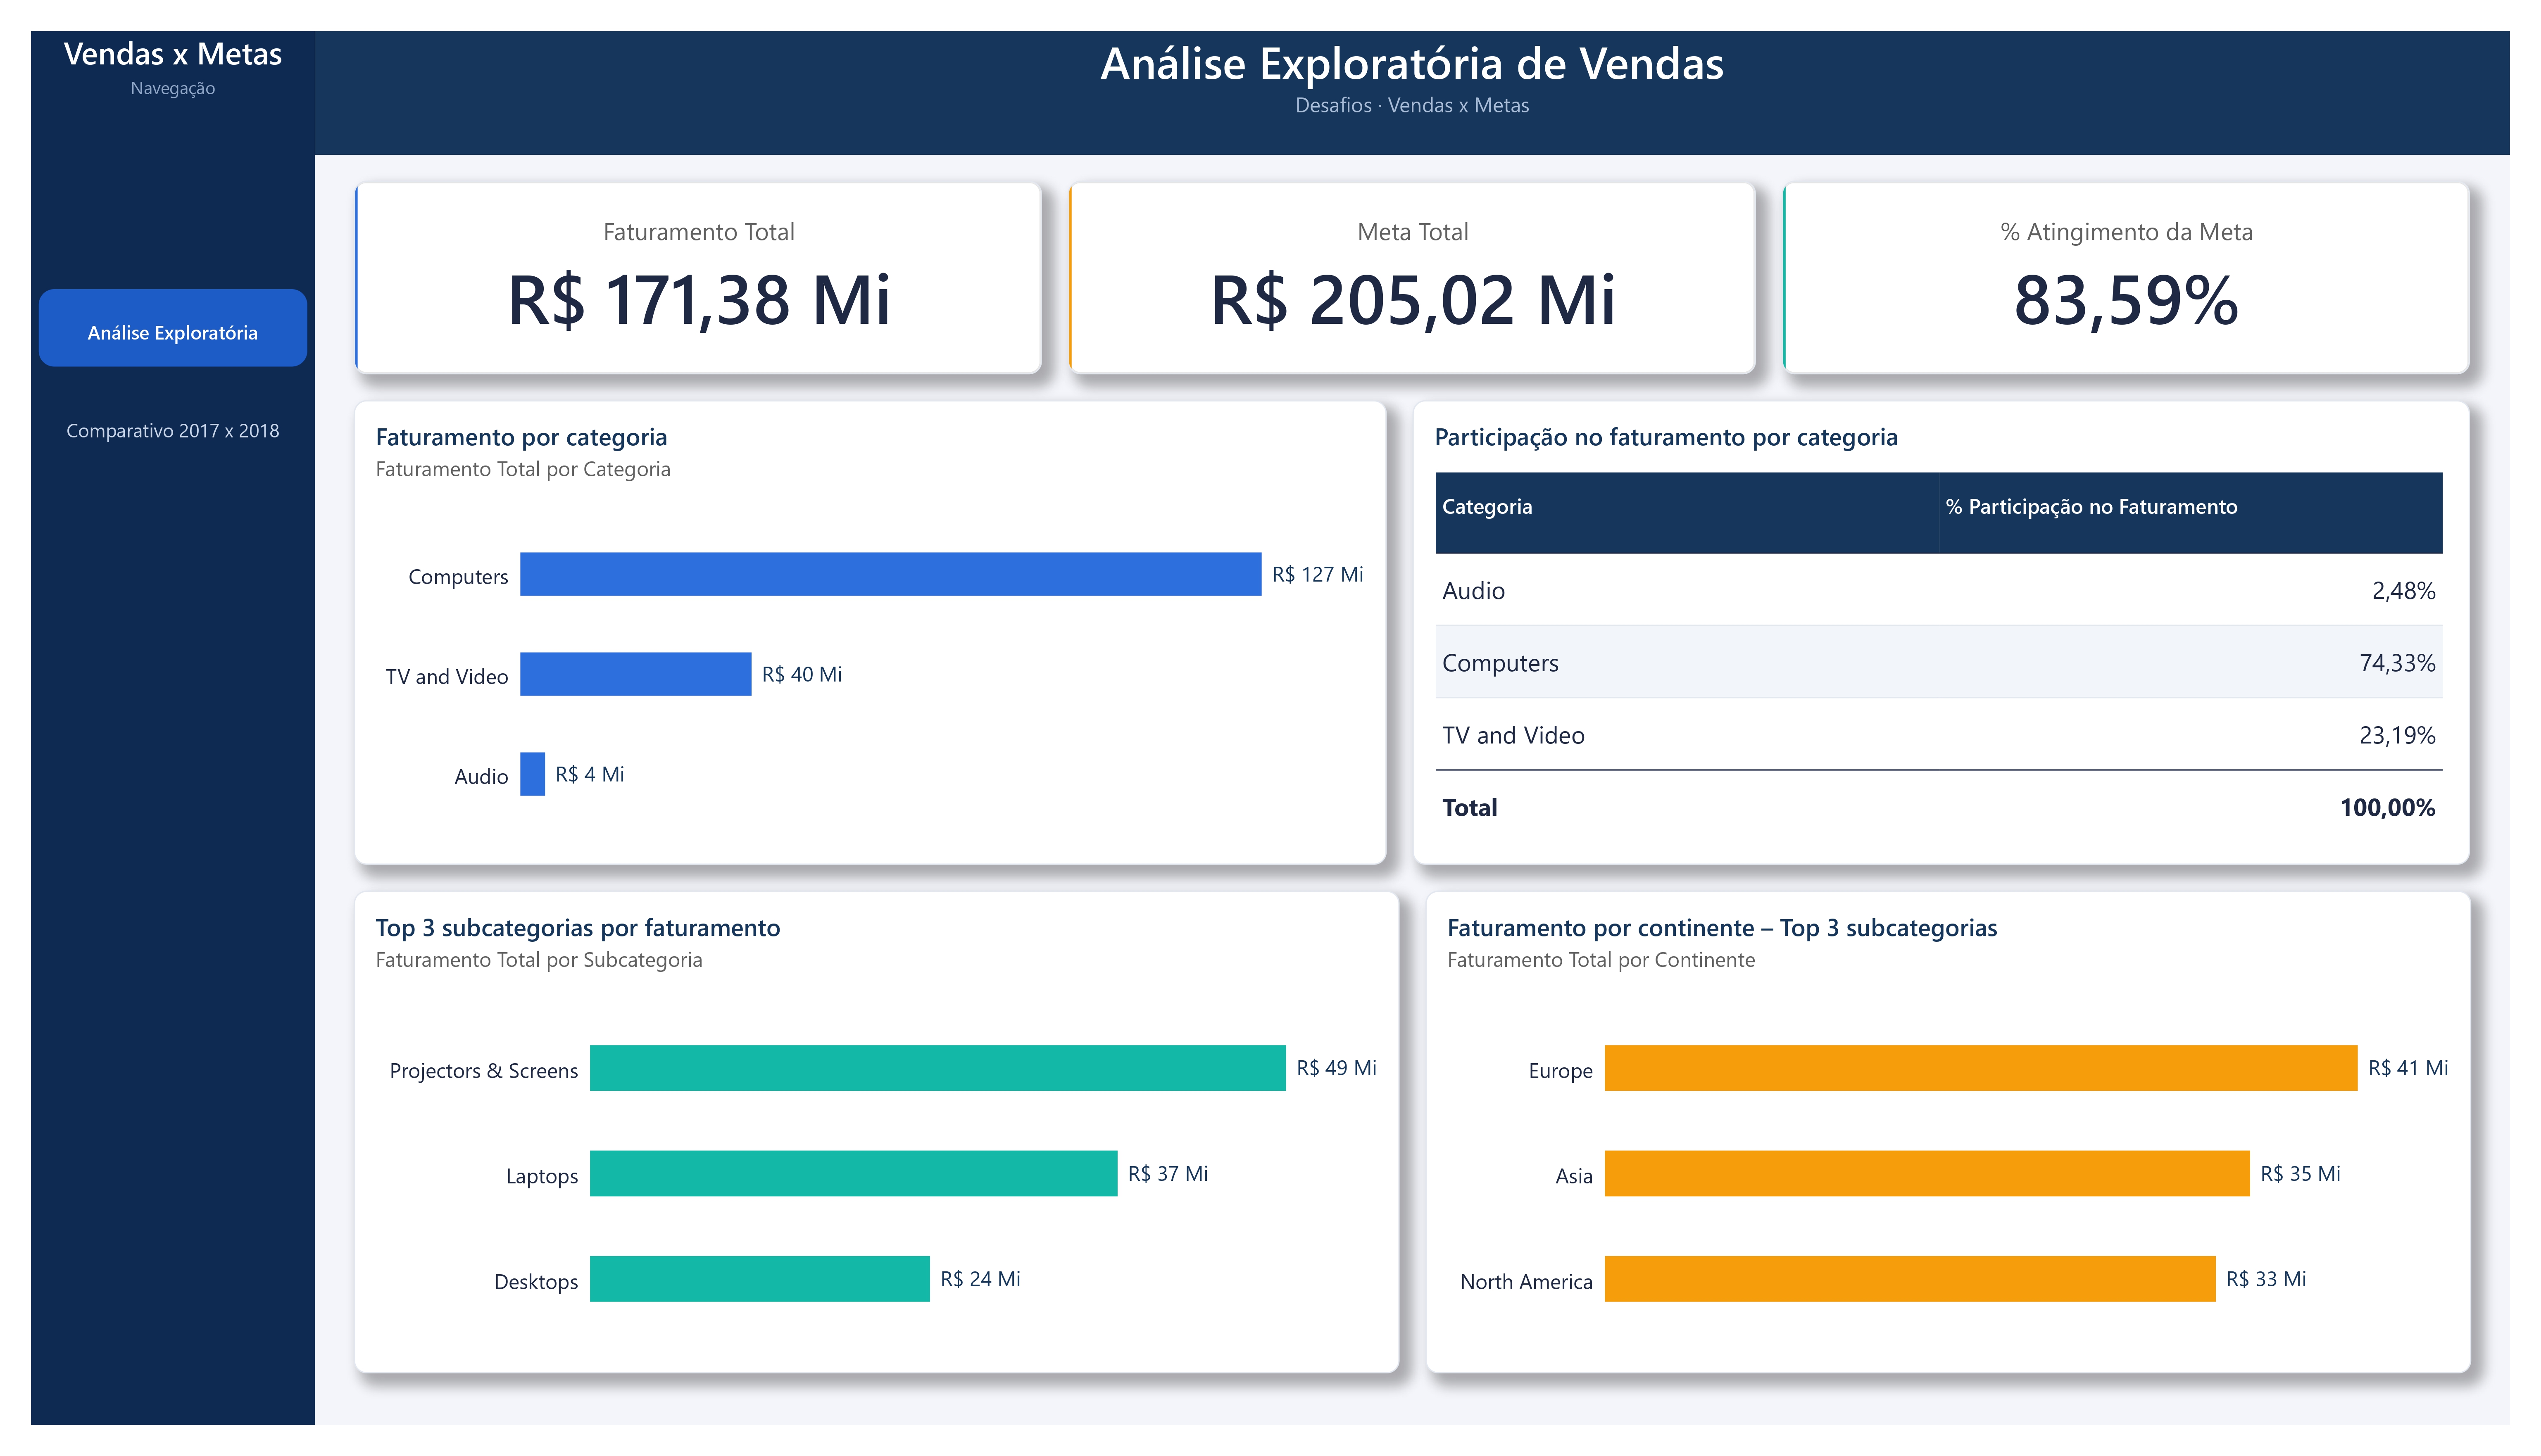

What the dashboard file says about the page in this screenshot:
{"tool":"powerbi","page":{"name":"01 - Análise Exploratória","canvas":[1920,1080],"ordinal":0},"visuals":[{"type":"cardVisual","fields":{"Data":["Vendas.Faturamento Total"]},"box":[250,116,533,150],"z":0},{"type":"cardVisual","fields":{"Data":["Vendas.Meta Total"]},"box":[803,116,533,150],"z":1000},{"type":"cardVisual","fields":{"Data":["Vendas.% Atingimento da Meta"]},"box":[1356,116,533,150],"z":2000},{"type":"barChart","title":"Faturamento por categoria","fields":{"Category":["Subcategoria.Categoria"],"Y":["Vendas.Faturamento Total"]},"box":[250,286,800,360],"z":3000},{"type":"tableEx","title":"Participação no faturamento por categoria","fields":{"Values":["Subcategoria.Categoria","Vendas.% Participação no Faturamento"]},"box":[1069.5,285.9,819.8,360.1],"z":4000},{"type":"barChart","title":"Top 3 subcategorias por faturamento","fields":{"Category":["Subcategoria.Subcategoria"],"Y":["Vendas.Faturamento Total"]},"box":[250,666,810,374],"z":5000},{"type":"barChart","title":"Faturamento por continente – Top 3 subcategorias","fields":{"Category":["DimContinente.Continente"],"Y":["Vendas.Faturamento Total"]},"box":[1080,666,810,374],"z":6000},{"type":"textbox","box":[220,0,1700,96],"z":6001},{"type":"textbox","box":[0,0,220,1080],"z":7500},{"type":"textbox","box":[6,200,208,60],"z":8000},{"type":"actionButton","box":[6,200,208,60],"z":8001},{"type":"textbox","box":[6,276,208,60],"z":8002},{"type":"actionButton","box":[6,276,208,60],"z":8003}]}

Visuals, with their boxes on the page's 1920x1080 design canvas (x1, y1, x2, y2). These are canvas units, not pixel positions in the 2541x1456 screenshot, which may show the page scaled, cropped or inside an application window:
cardVisual - Vendas.Faturamento Total: (250,116,783,266)
cardVisual - Vendas.Meta Total: (803,116,1336,266)
cardVisual - Vendas.% Atingimento da Meta: (1356,116,1889,266)
"Faturamento por categoria" barChart: (250,286,1050,646)
"Participação no faturamento por categoria" tableEx: (1070,286,1889,646)
"Top 3 subcategorias por faturamento" barChart: (250,666,1060,1040)
"Faturamento por continente – Top 3 subcategorias" barChart: (1080,666,1890,1040)
textbox: (220,0,1920,96)
textbox: (0,0,220,1080)
textbox: (6,200,214,260)
actionButton: (6,200,214,260)
textbox: (6,276,214,336)
actionButton: (6,276,214,336)
